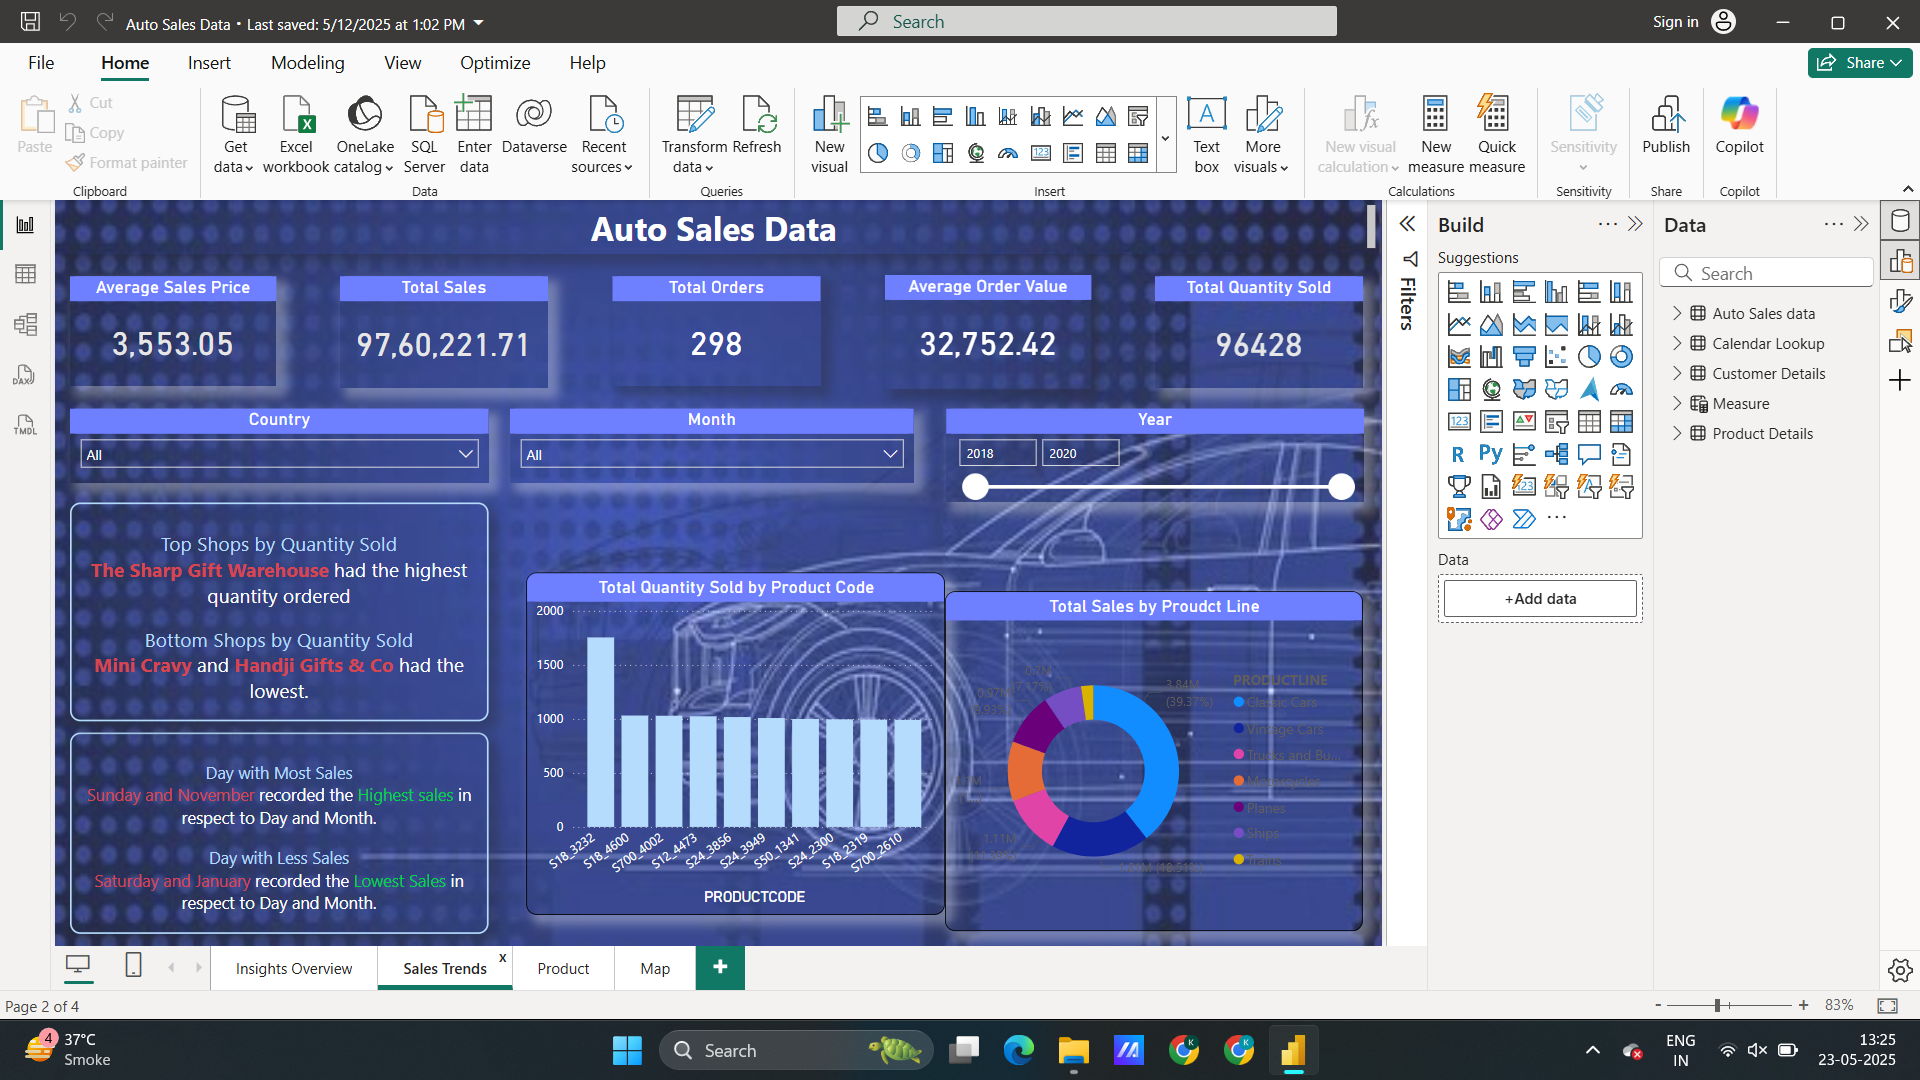

This screenshot's page, from the dashboard's own definition file:
{"tool":"powerbi","page":{"name":"Sales Trends","canvas":[1280,720],"ordinal":1},"visuals":[{"type":"textbox","box":[0,0,1279.7,51.9],"z":0},{"type":"slicer","title":"Month","fields":{"Values":["Calendar Lookup.Month"]},"box":[439.1,201.5,389.7,71.2],"z":1000},{"type":"slicer","title":"Year","fields":{"Values":["Calendar Lookup.Year"]},"box":[860.2,201.5,403,90.5],"z":2000},{"type":"slicer","title":"Country","fields":{"Values":["Customer Details.COUNTRY"]},"box":[14.3,201.4,404.3,71.4],"z":3000},{"type":"columnChart","title":"Total Quantity Sold by Product Code","fields":{"Y":["Measure.Total Quantity Sold"],"Category":["Auto Sales data.PRODUCTCODE"]},"box":[454.8,359.5,404.2,330.6],"z":4000},{"type":"donutChart","title":"Total Sales by Proudct Line","fields":{"Category":["Product Details.PRODUCTLINE"],"Y":["Measure.Total Sales"]},"box":[859,377.6,403,328.2],"z":5000},{"type":"textbox","box":[14.3,514.3,404.3,194.3],"z":7000},{"type":"textbox","box":[14.3,291.4,404.3,211.4],"z":8000},{"type":"card","title":"Total Sales","fields":{"Values":["Measure.Total Sales"]},"box":[275.6,73.6,200.5,108.2],"z":9000},{"type":"card","title":"Total Orders","fields":{"Values":["Measure.Total Orders"]},"box":[538.2,73.6,200.5,106.8],"z":10000},{"type":"card","title":"Total Quantity Sold","fields":{"Values":["Measure.Total Quantity Sold"]},"box":[1061.9,73.6,200.5,108.2],"z":11000},{"type":"card","title":"Average Order Value","fields":{"Values":["Measure.Average Order Value"]},"box":[800.7,72.1,199.1,109.6],"z":12000},{"type":"card","title":"Average Sales Price","fields":{"Values":["Measure.Average Sale Price"]},"box":[14.4,73.6,199.1,106.8],"z":13000}]}

Visuals, with their boxes on the page's 1280x720 design canvas (x1, y1, x2, y2). These are canvas units, not pixel positions in the 1920x1080 screenshot, which may show the page scaled, cropped or inside an application window:
textbox: Rect(0, 0, 1280, 52)
"Month" slicer: Rect(439, 202, 829, 273)
"Year" slicer: Rect(860, 202, 1263, 292)
"Country" slicer: Rect(14, 201, 419, 273)
"Total Quantity Sold by Product Code" columnChart: Rect(455, 360, 859, 690)
"Total Sales by Proudct Line" donutChart: Rect(859, 378, 1262, 706)
textbox: Rect(14, 514, 419, 709)
textbox: Rect(14, 291, 419, 503)
"Total Sales" card: Rect(276, 74, 476, 182)
"Total Orders" card: Rect(538, 74, 739, 180)
"Total Quantity Sold" card: Rect(1062, 74, 1262, 182)
"Average Order Value" card: Rect(801, 72, 1000, 182)
"Average Sales Price" card: Rect(14, 74, 214, 180)
